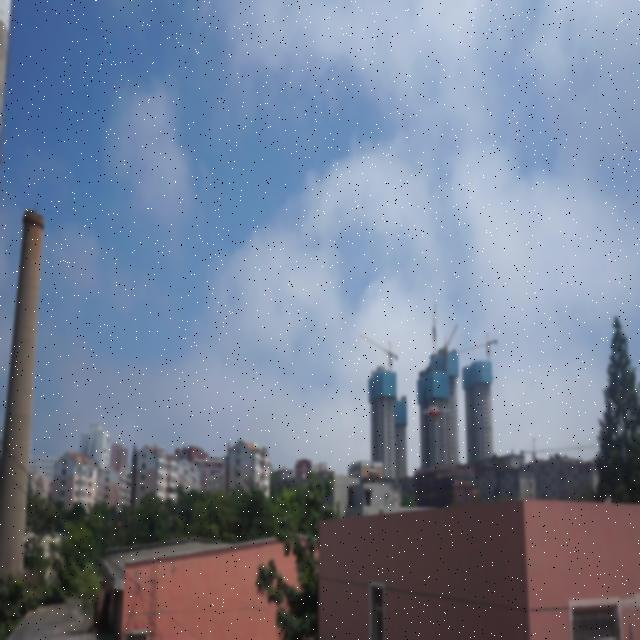UAV: (422, 406, 450, 422)
